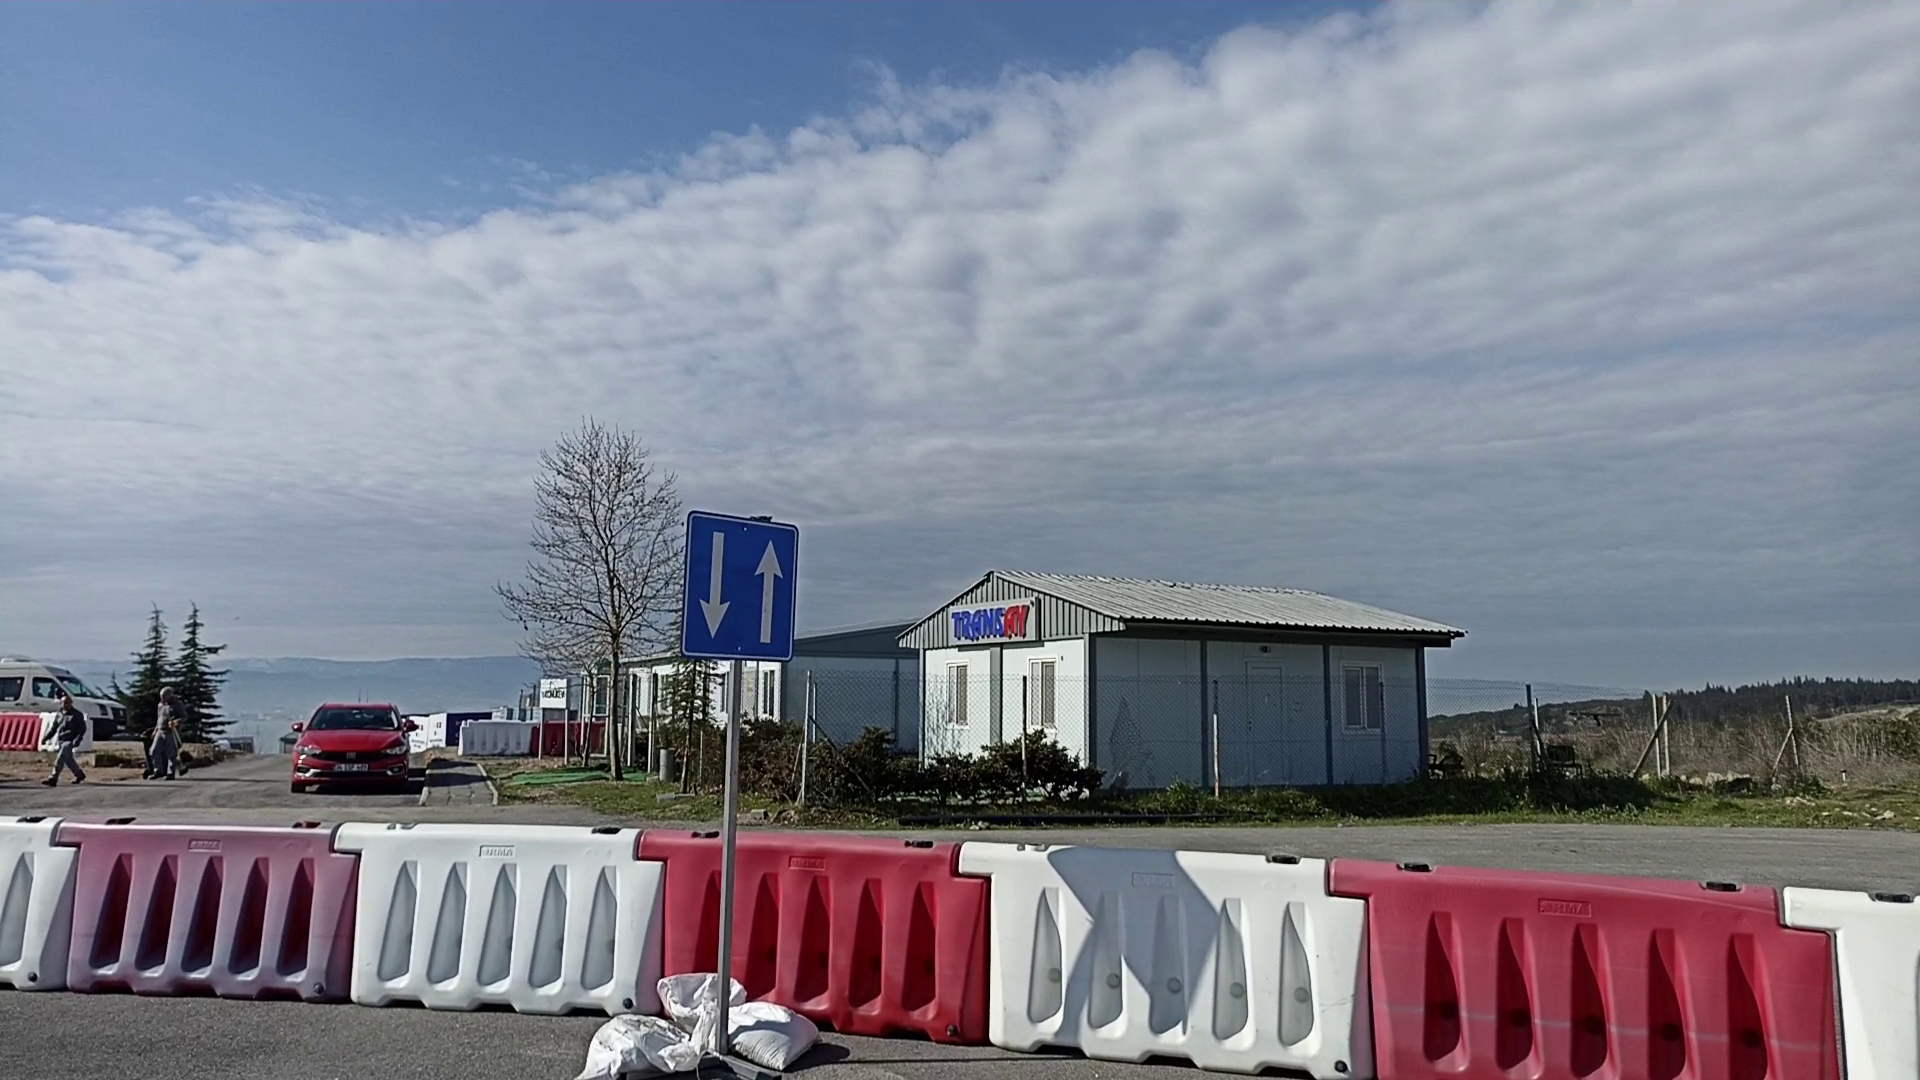oneway: (676, 508, 802, 665)
